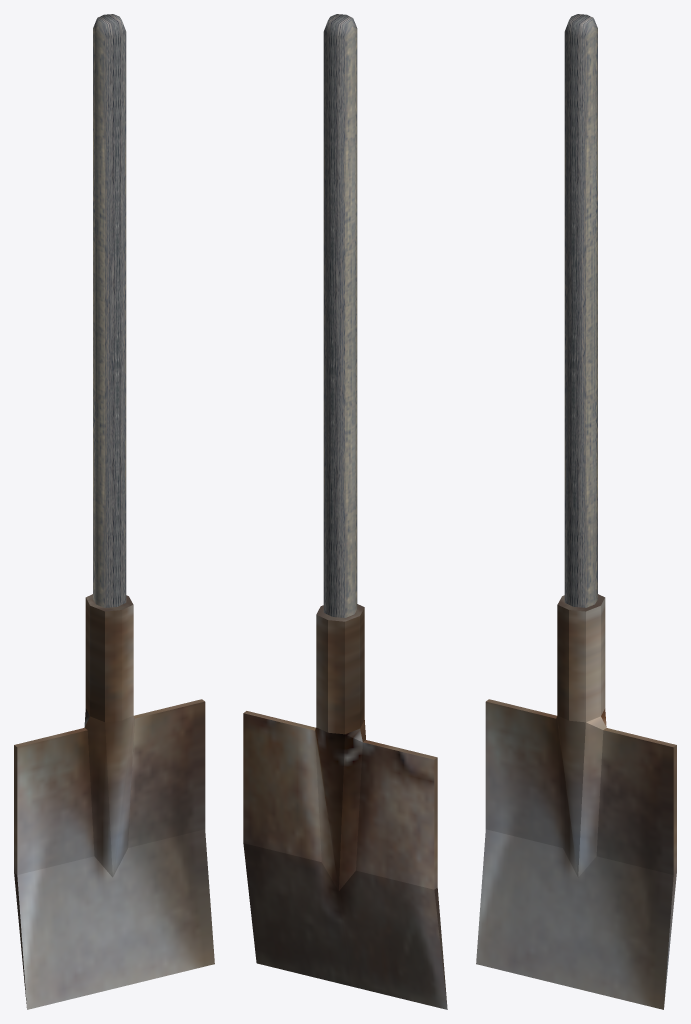
The model's file is shovel.obj.
3 renders of one model, left to right at view 1: azimuth 30°, elevation 25°; view 2: azimuth 150°, elevation 25°; view 3: azimuth 330°, elevation 25°, orthographic.
Parts seen in each view (by area): view 1: Shovel_Cube, Handke_Cube.001; view 2: Shovel_Cube, Handke_Cube.001; view 3: Shovel_Cube, Handke_Cube.001.
Boxes of the visible parts, x1,y1,x2,y2 form: Shovel_Cube: [14, 594, 214, 1009]; Handke_Cube.001: [93, 14, 126, 607]; Shovel_Cube: [243, 604, 447, 1009]; Handke_Cube.001: [323, 14, 357, 617]; Shovel_Cube: [476, 594, 676, 1009]; Handke_Cube.001: [564, 14, 597, 607].
Size of the model in its own units: 2 by 9.76 by 0.452.
